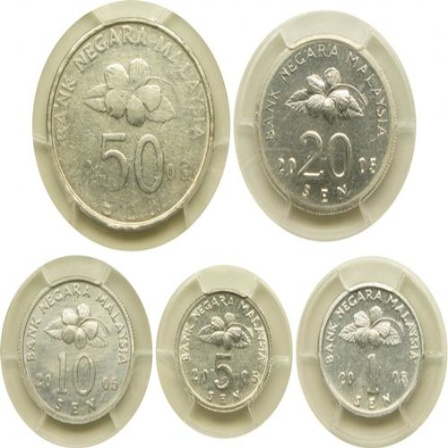10: (17, 273, 137, 429)
1c: (317, 282, 426, 418)
20: (257, 33, 400, 216)
5: (173, 289, 275, 415)
50: (47, 16, 216, 237)
